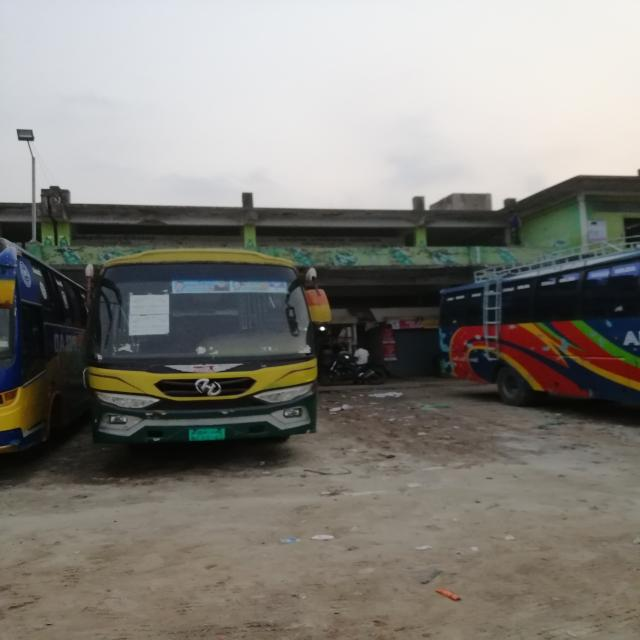Bus: (78, 245, 357, 464), (422, 237, 640, 415), (1, 239, 85, 464)
